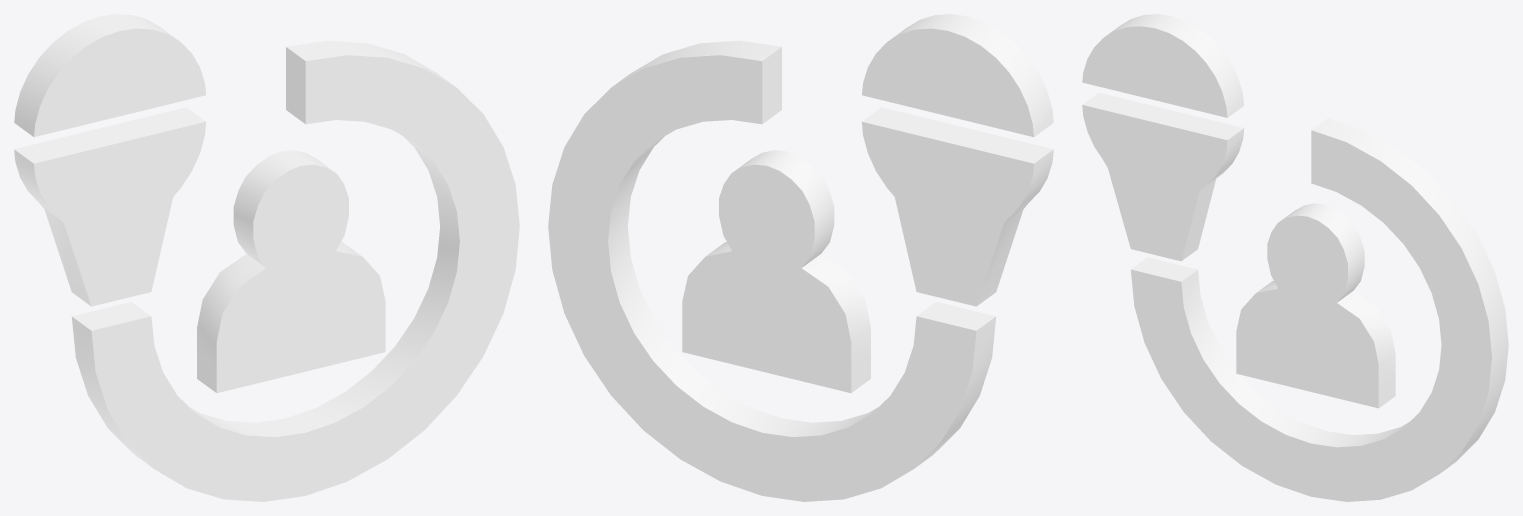
The model's file is ps2_save-icons_singstarlaedaddeorodelpopespanol-playerprofiles.glb.
The picture shows the model from 3 angles, left to right: view 1: azimuth 30°, elevation 25°; view 2: azimuth 150°, elevation 25°; view 3: azimuth 330°, elevation 25°; orthographic projection. The views are drawn at different scales.
Visible parts, largest first — view 1: profiles.ico; view 2: profiles.ico; view 3: profiles.ico.
Boxes of the visible parts, x1=… form: profiles.ico: x1=14, y1=14, x2=519, y2=501; profiles.ico: x1=548, y1=14, x2=1053, y2=501; profiles.ico: x1=1082, y1=14, x2=1508, y2=501.
Size of the model in its own units: 4.68 by 4.7 by 0.3303.
Materials: 1 (1 with a texture image).
